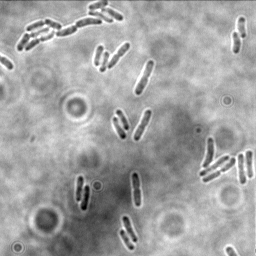Dividing: (201, 156, 237, 183), (133, 59, 156, 96), (132, 109, 153, 142), (107, 41, 131, 69), (130, 171, 143, 209), (236, 152, 246, 185)
Microcolony: (15, 1, 124, 52)
Rod: (198, 153, 230, 177), (121, 215, 139, 243), (201, 136, 216, 169), (119, 228, 136, 252), (111, 116, 127, 141), (115, 108, 131, 131), (79, 184, 91, 212), (245, 149, 255, 179), (98, 49, 110, 73), (75, 174, 85, 202), (231, 31, 242, 54), (93, 44, 104, 67), (236, 16, 247, 38)
